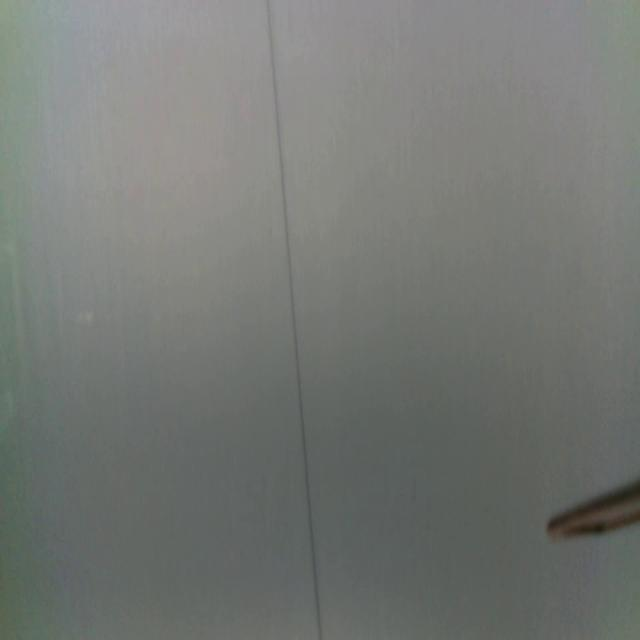crease: (268, 0, 322, 640)
